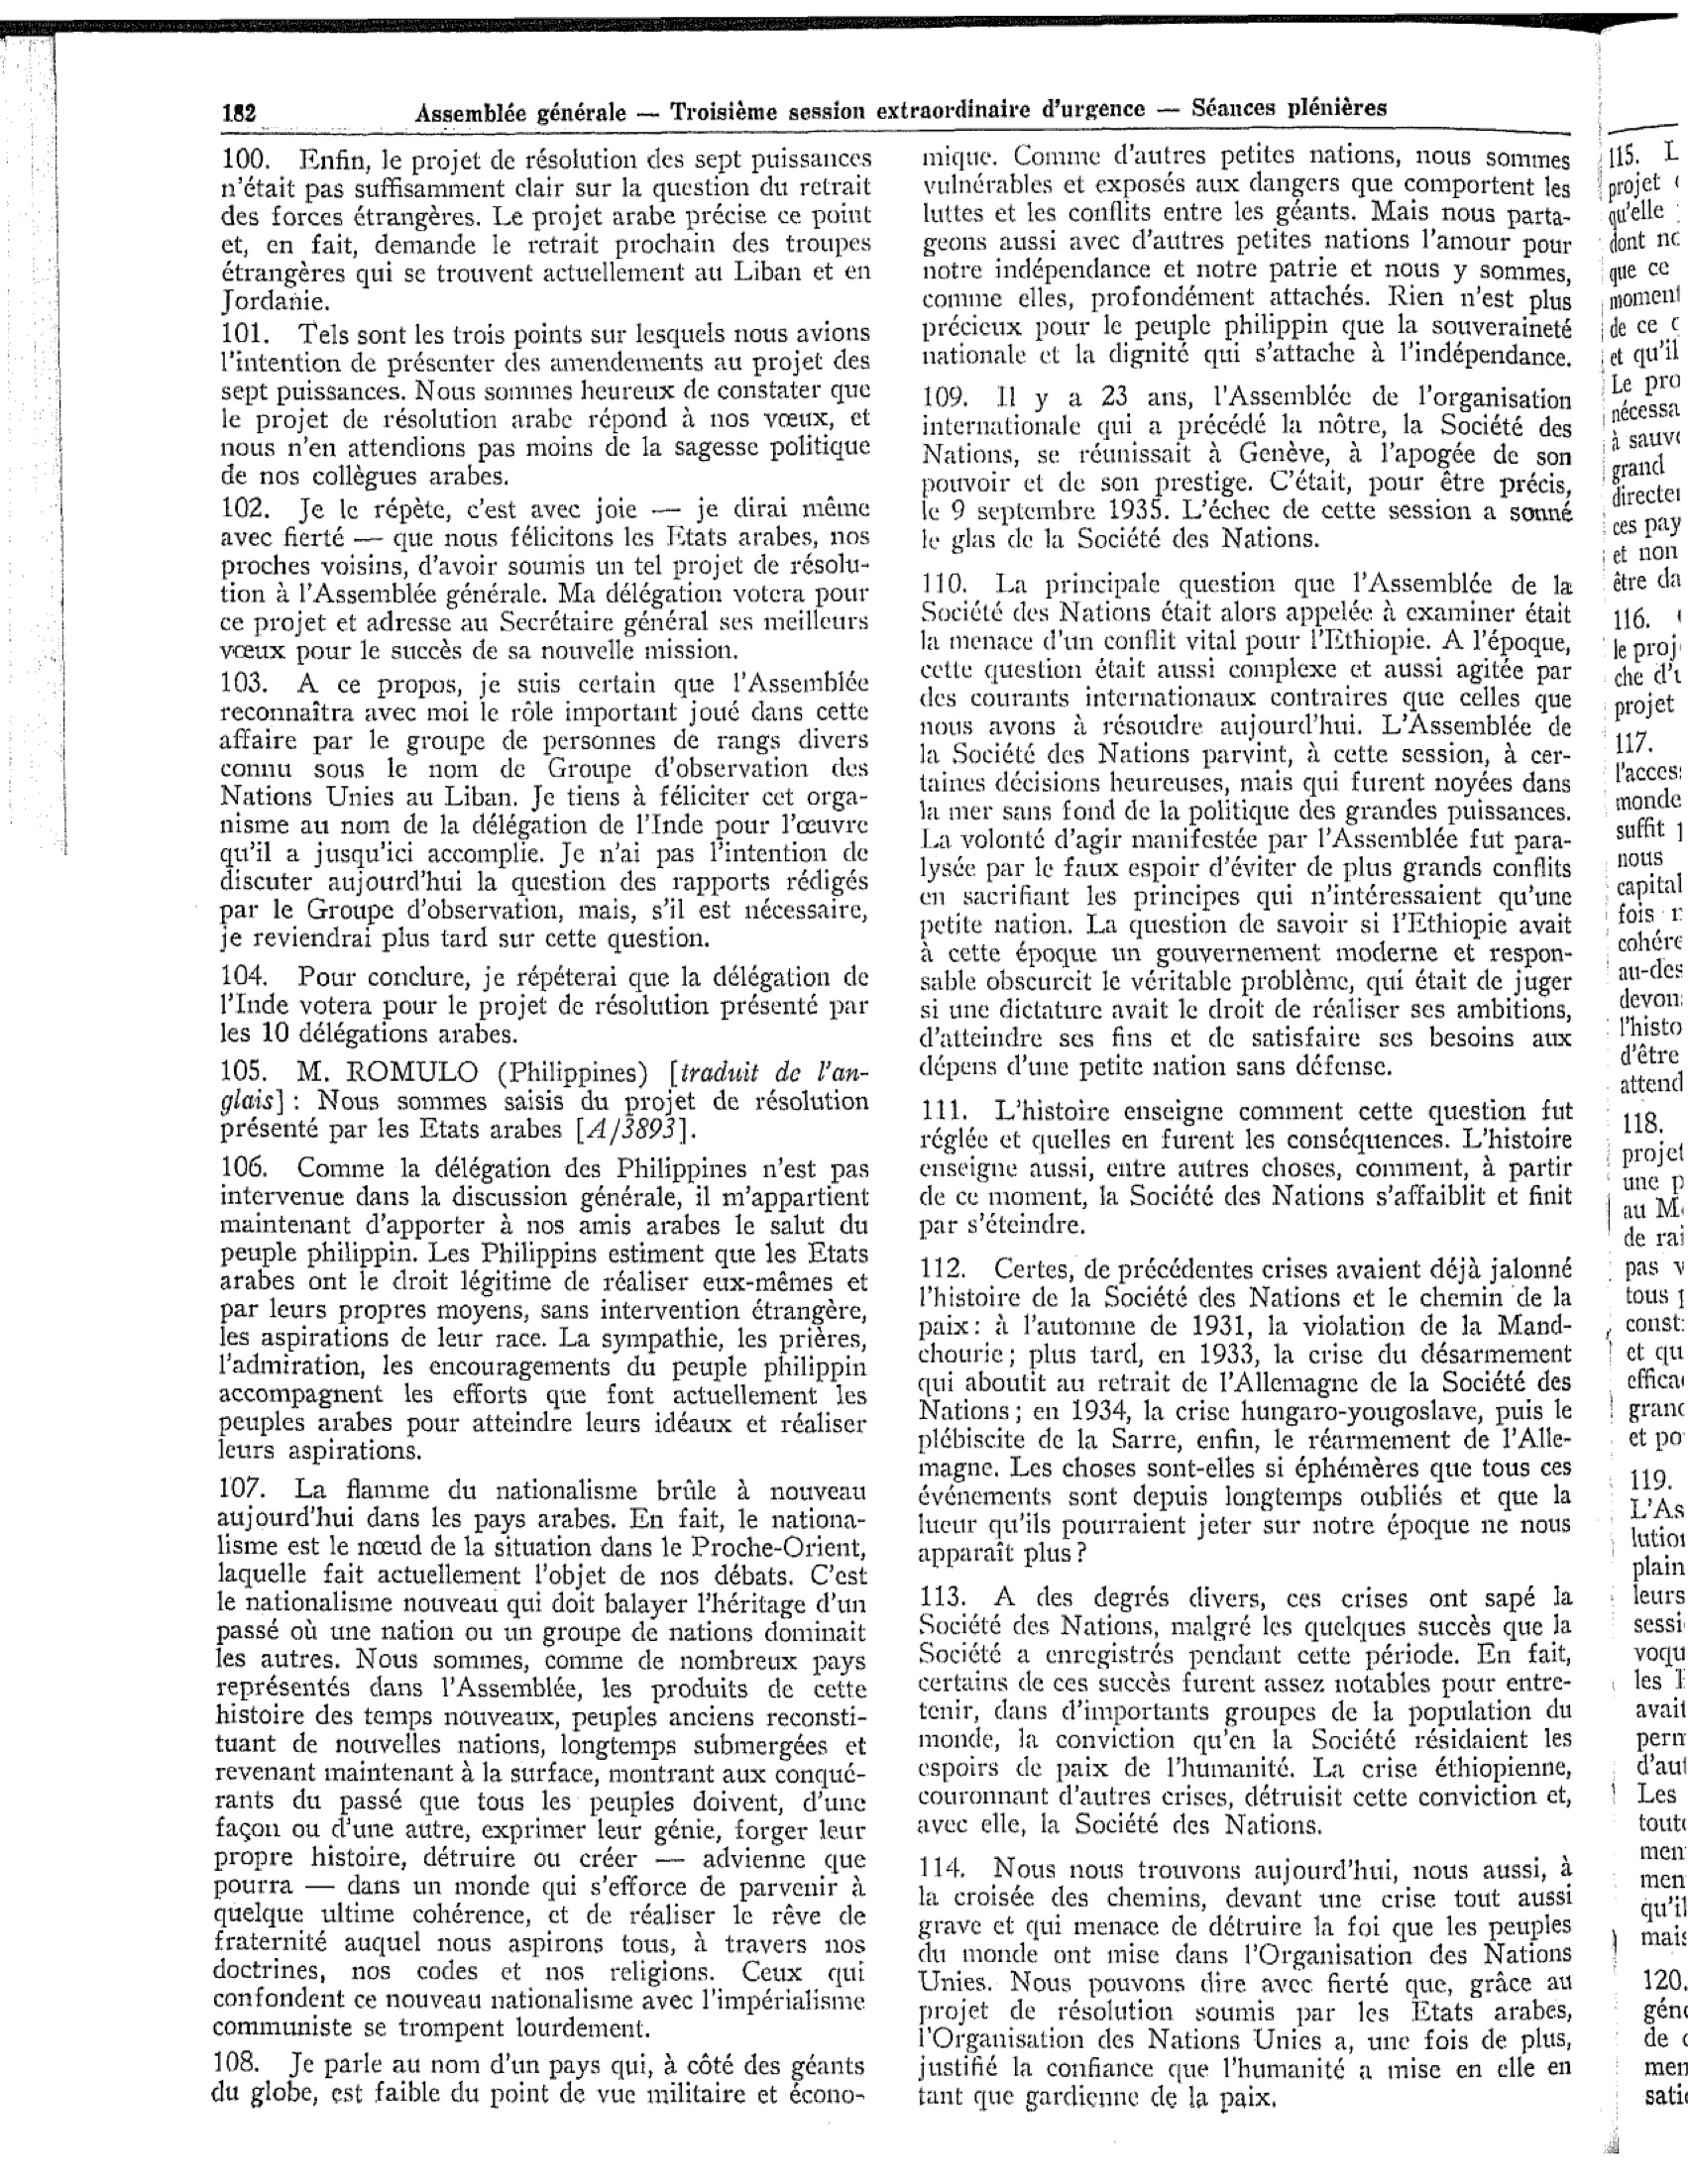MainZone-Continued: (913, 136, 1577, 370)
MainZone-ListItem: (202, 1471, 874, 2047), (910, 562, 1582, 1085), (908, 1250, 1582, 1571), (209, 1149, 874, 1470), (213, 668, 874, 955), (910, 1849, 1582, 2118), (910, 1578, 1577, 1840), (213, 136, 880, 314), (915, 378, 1578, 555), (211, 316, 878, 491), (209, 495, 876, 665), (912, 1090, 1578, 1243), (209, 1051, 876, 1147), (211, 957, 874, 1049), (202, 2047, 872, 2115)
NumberingZone: (216, 96, 259, 129)
RunningTitleZone: (406, 89, 1389, 129)
